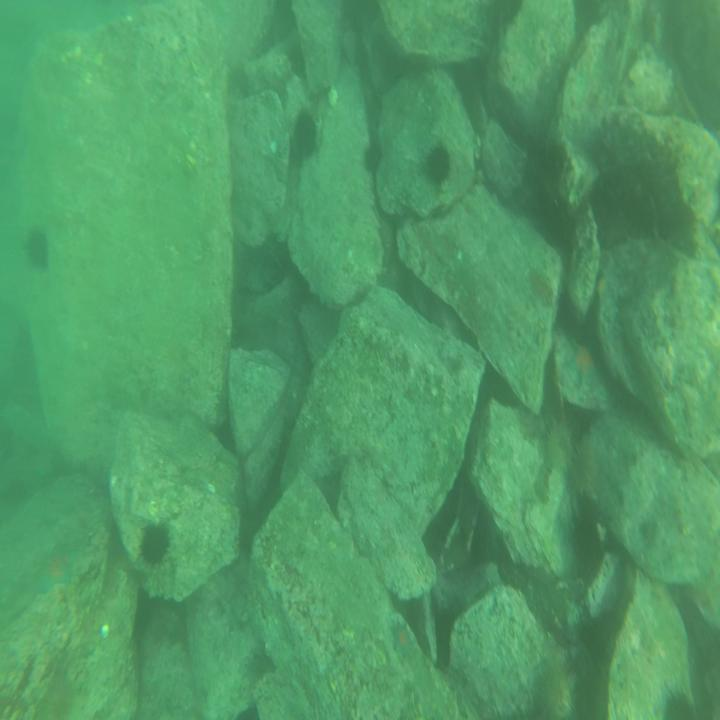echinus: (538, 665, 576, 720), (137, 520, 170, 566), (292, 105, 318, 158), (662, 683, 698, 720), (20, 228, 52, 264), (426, 145, 454, 182), (364, 140, 384, 174)
starfish: (38, 542, 80, 595), (564, 337, 600, 393), (391, 624, 419, 656)
